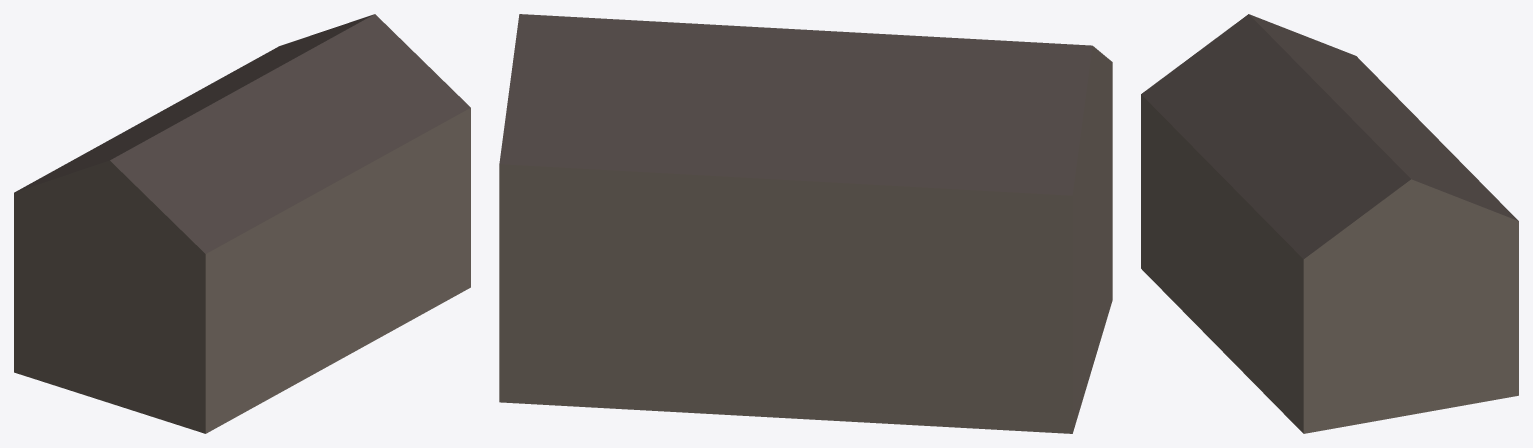
3 views of the same model, side by side, from view 1: azimuth 30°, elevation 25°; view 2: azimuth 150°, elevation 25°; view 3: azimuth 270°, elevation 25° (orthographic). The views are drawn at different scales.
Visible parts, largest first — view 1: HP-w1200814978; view 2: HP-w1200814978; view 3: HP-w1200814978.
Part boxes in pixels (bbox=[...]): HP-w1200814978: bbox=[14, 14, 470, 433]; HP-w1200814978: bbox=[499, 14, 1112, 433]; HP-w1200814978: bbox=[1141, 14, 1518, 433].
Size of the model in its own units: 15.01 by 8.1 by 11.77.
